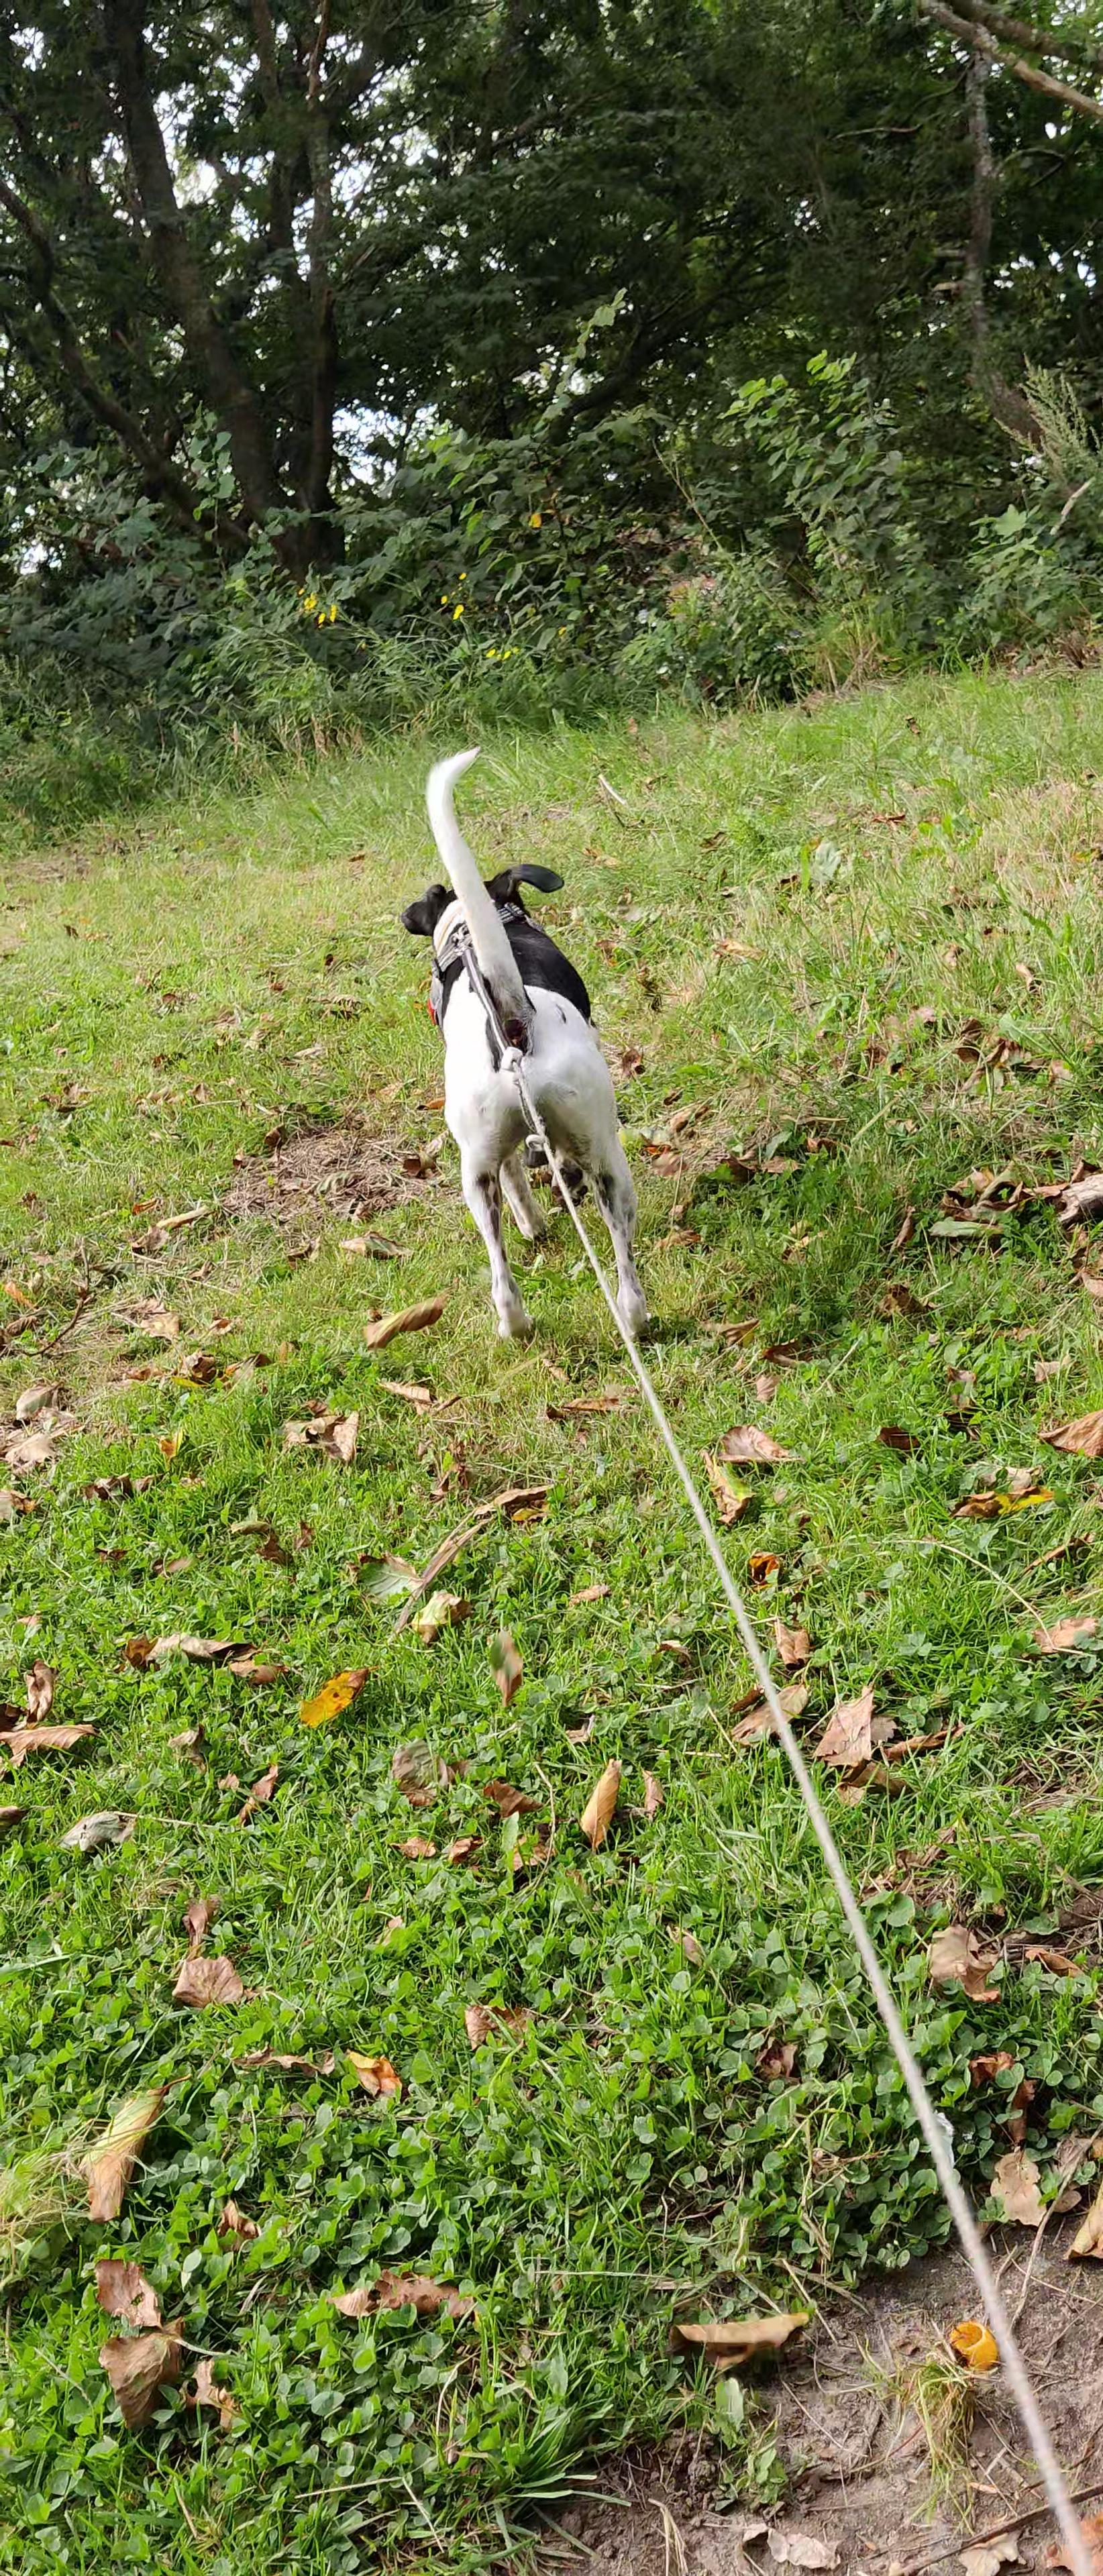Dog: (365, 711, 659, 1350)
